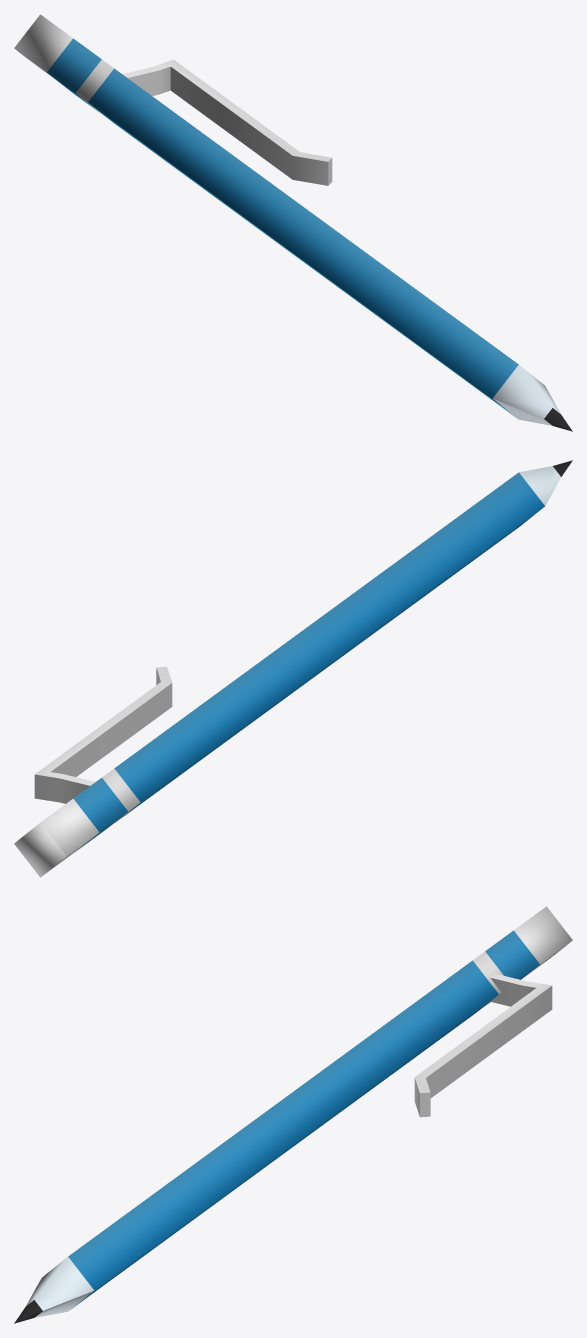
The model's file is CR_Pencil_002.FBX.
The picture shows the model from 3 angles, top to bottom: view 1: azimuth 30°, elevation 25°; view 2: azimuth 150°, elevation 25°; view 3: azimuth 330°, elevation 25°; orthographic projection.
Visible parts, largest first — view 1: CR_Pencil_002; view 2: CR_Pencil_002; view 3: CR_Pencil_002.
Boxes of the visible parts, x1,y1,x2,y2 form: CR_Pencil_002: (14,14,572,431); CR_Pencil_002: (14,460,572,877); CR_Pencil_002: (14,906,572,1323).
Size of the model in its own units: 1.22 by 0.5621 by 9.83.
1 material, 1 textured.
